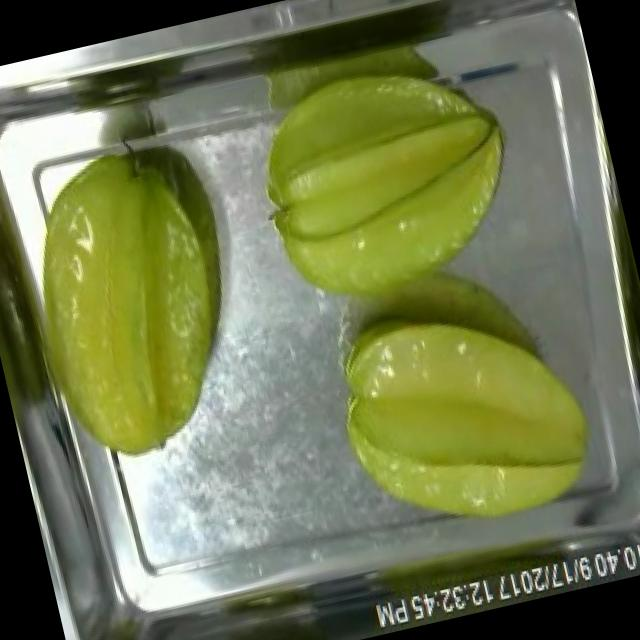fruit: (229, 26, 546, 328), (0, 124, 266, 474), (312, 273, 620, 562)
